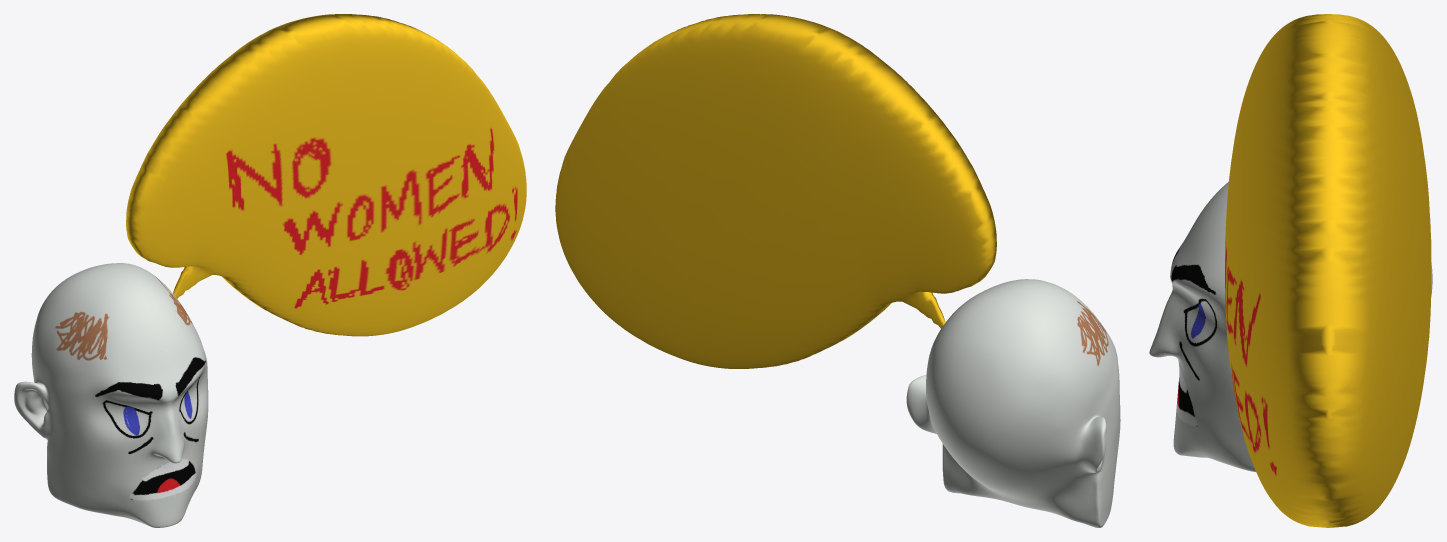
File: angryman.fbx
3 renders of one model, left to right at view 1: azimuth 30°, elevation 25°; view 2: azimuth 150°, elevation 25°; view 3: azimuth 270°, elevation 25°, orthographic. The views are drawn at different scales.
Parts seen in each view (by area): view 1: root (×2); view 2: root (×2); view 3: root (×2).
Boxes of the visible parts, left/top/right/bottom form: root (×2): left=14, top=14, right=526, bottom=527; root (×2): left=555, top=14, right=1120, bottom=527; root (×2): left=1149, top=14, right=1432, bottom=527.
Size of the model in its own units: 1.23 by 0.9698 by 0.4568.
2 materials, 2 textured.
